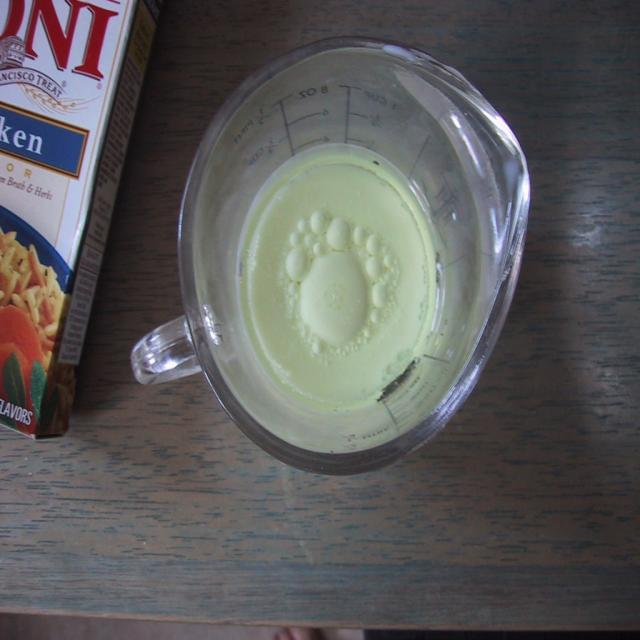Milk: (186, 104, 464, 452)
